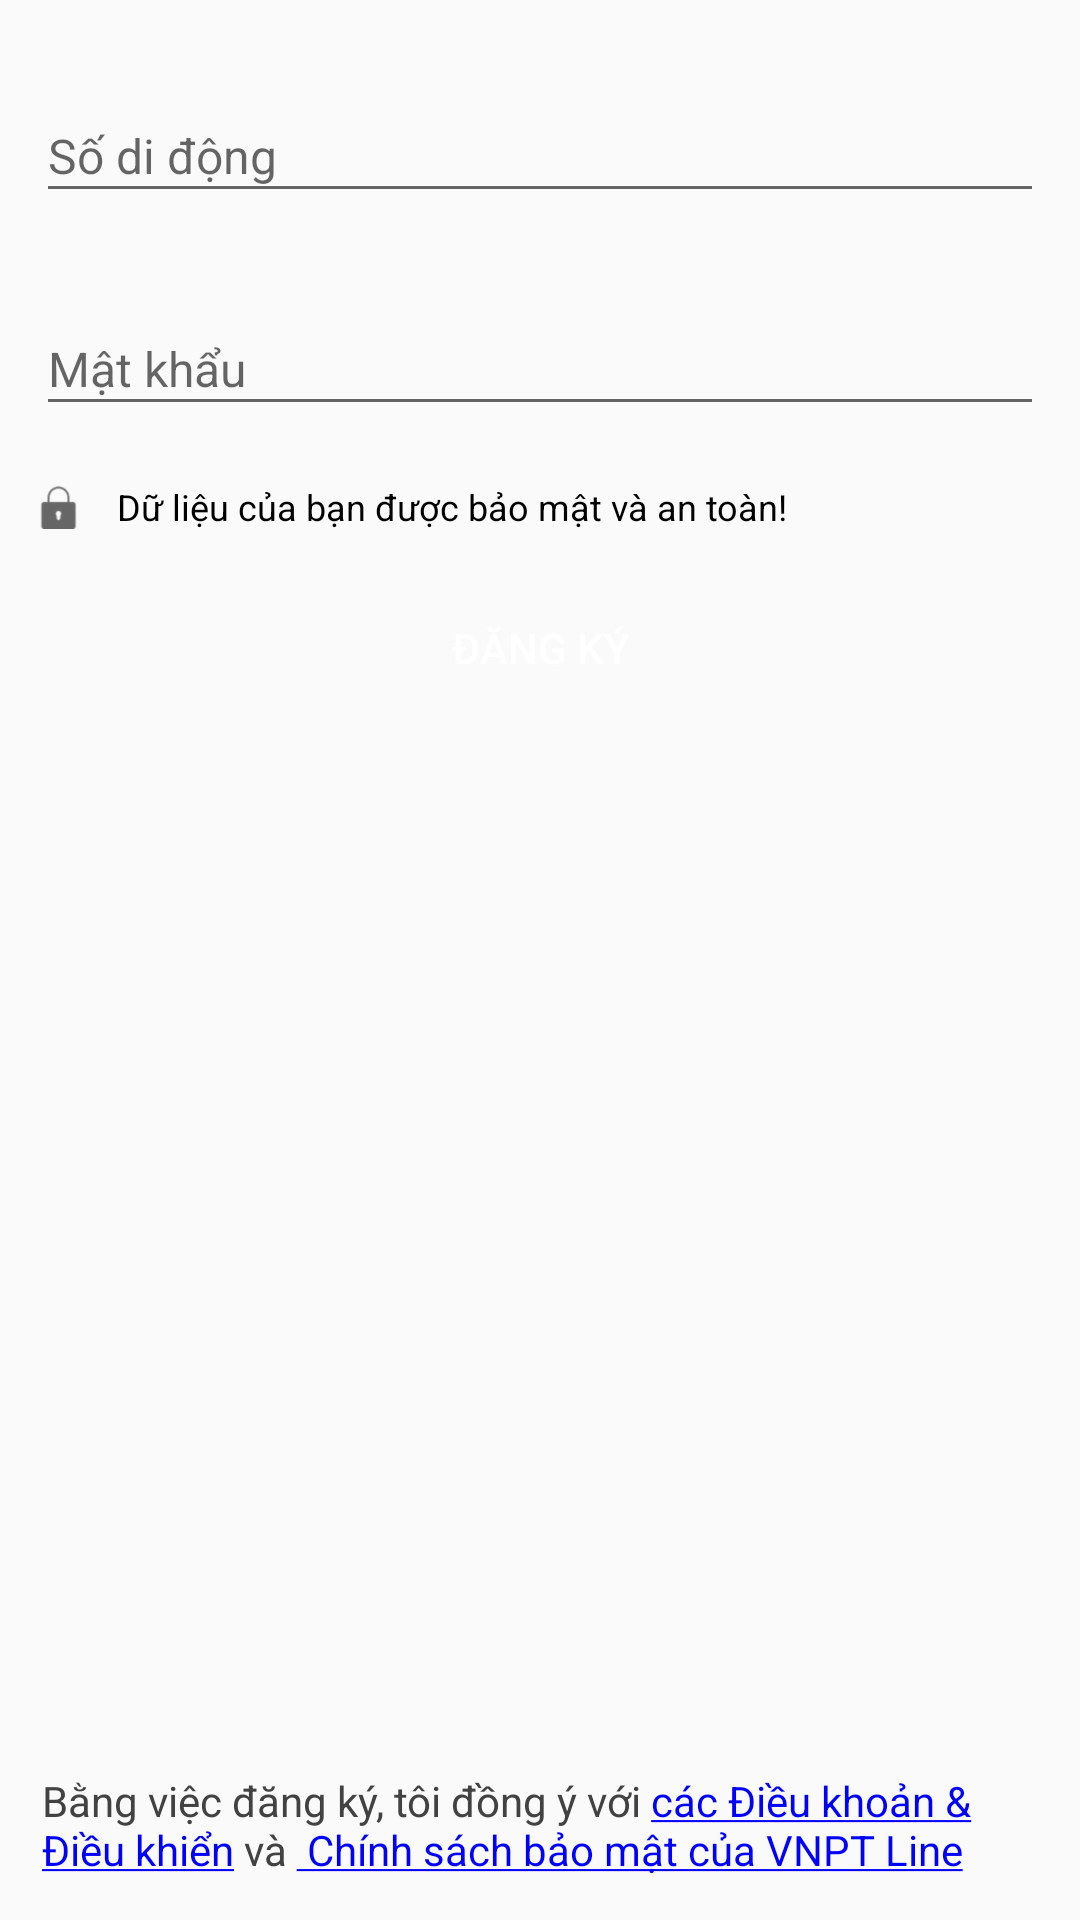

Screen size 1080px x 1920px. Icon name, then its center in pixels as point (x, y):
lock: point (58, 507)
